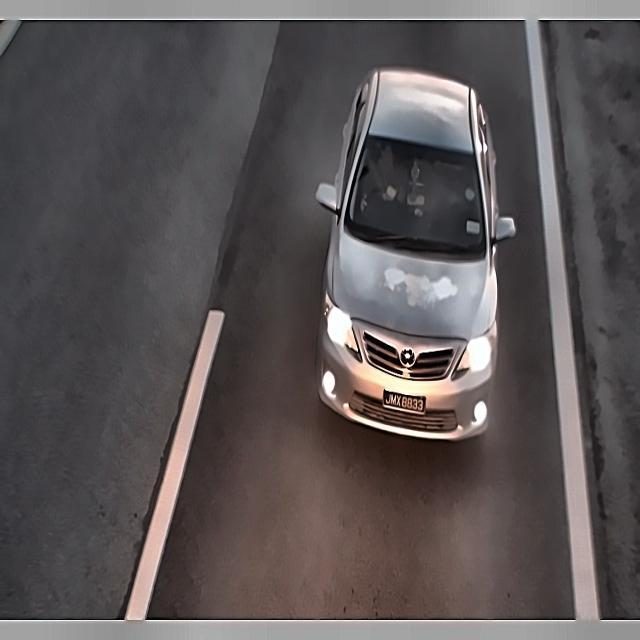car: (377, 386, 436, 429)
